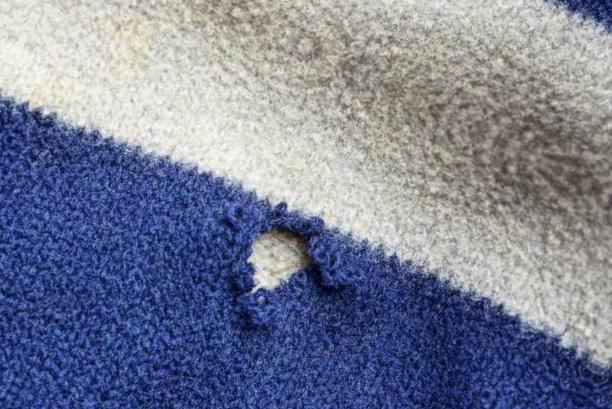hole: (241, 222, 317, 298)
